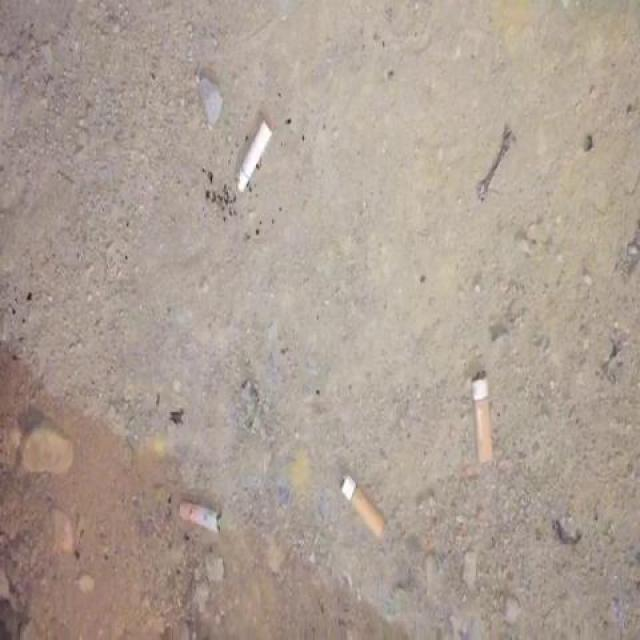non-organic waste: (335, 468, 389, 541), (232, 115, 276, 196), (467, 366, 496, 469), (175, 496, 226, 539)
